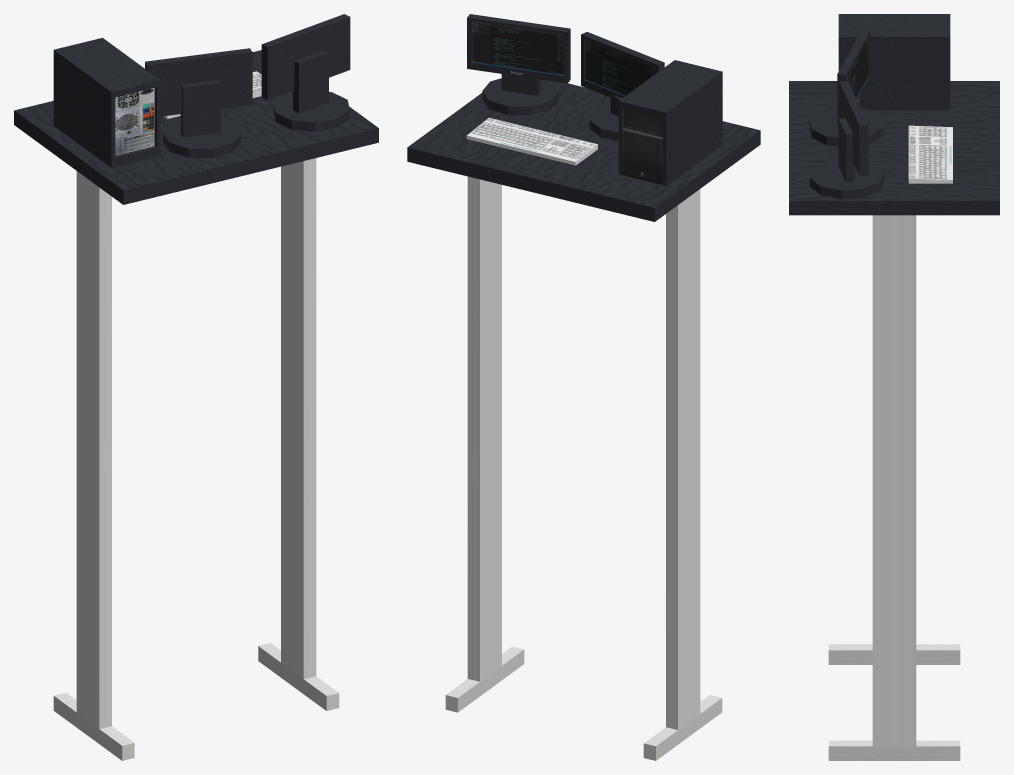
Rendered from PCDeskV2.gltf.
The picture shows the model from 3 angles, left to right: view 1: azimuth 30°, elevation 25°; view 2: azimuth 150°, elevation 25°; view 3: azimuth 270°, elevation 25°; orthographic projection. The views are drawn at different scales.
Visible parts, largest first — view 1: Cube, Cube.002, Cube.005, Cube.003, Cube.004, Cylinder, Cylinder.001, Cube.001; view 2: Cube, Cube.002, Cube.003, Cube.005, Cube.006, Cylinder, Cylinder.001, Cube.001; view 3: Cube, Cube.002, Cube.006, Cylinder, Cube.003, Cube.005, Cylinder.001, Cube.001.
Part boxes in pixels (bbox=[...]): Cube: bbox=[14, 50, 378, 760]; Cube.002: bbox=[53, 38, 160, 167]; Cube.005: bbox=[145, 48, 252, 116]; Cube.003: bbox=[261, 14, 350, 100]; Cube.004: bbox=[180, 80, 220, 137]; Cylinder: bbox=[273, 92, 349, 131]; Cylinder.001: bbox=[162, 119, 240, 157]; Cube.001: bbox=[293, 50, 328, 113]; Cube: bbox=[407, 80, 760, 760]; Cube.002: bbox=[618, 60, 722, 185]; Cube.003: bbox=[467, 14, 570, 83]; Cube.005: bbox=[581, 32, 664, 100]; Cube.006: bbox=[466, 117, 597, 165]; Cylinder: bbox=[482, 78, 558, 115]; Cylinder.001: bbox=[589, 103, 618, 140]; Cube.001: bbox=[501, 74, 540, 95]; Cube: bbox=[789, 81, 999, 760]; Cube.002: bbox=[838, 14, 950, 110]; Cube.006: bbox=[908, 125, 952, 183]; Cylinder: bbox=[809, 160, 883, 199]; Cube.003: bbox=[839, 80, 868, 176]; Cube.005: bbox=[837, 30, 870, 124]; Cylinder.001: bbox=[809, 108, 883, 146]; Cube.001: bbox=[838, 118, 854, 182].
Size of the model in its own units: 0.5157 by 1.26 by 0.3705.
6 materials, 6 textured.
